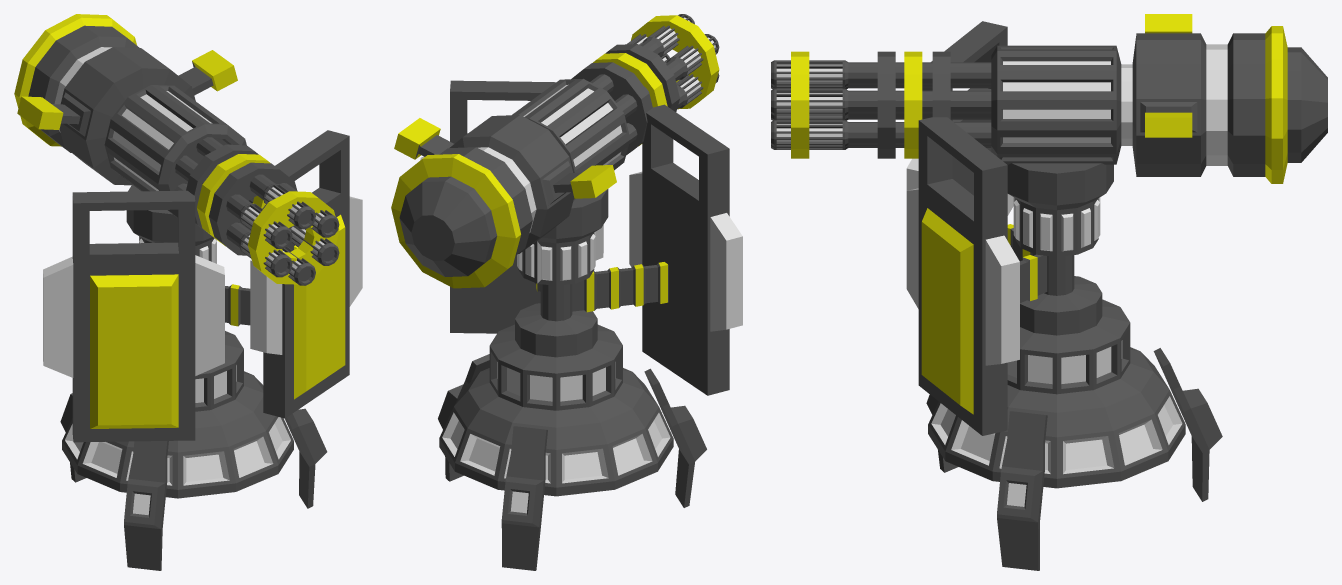
The model's file is tower4_1.fbx.
3 views of the same model, side by side, from view 1: azimuth 30°, elevation 25°; view 2: azimuth 150°, elevation 25°; view 3: azimuth 270°, elevation 25° (orthographic). The views are drawn at different scales.
Visible parts, largest first — view 1: polySurface87; view 2: polySurface87; view 3: polySurface87.
Part boxes in pixels (<box>): polySurface87: <box>14,14,362,570</box>; polySurface87: <box>391,14,742,570</box>; polySurface87: <box>771,14,1327,570</box>.
Bounding box in the file's own units: 0.5373 × 0.6897 × 0.7314.
